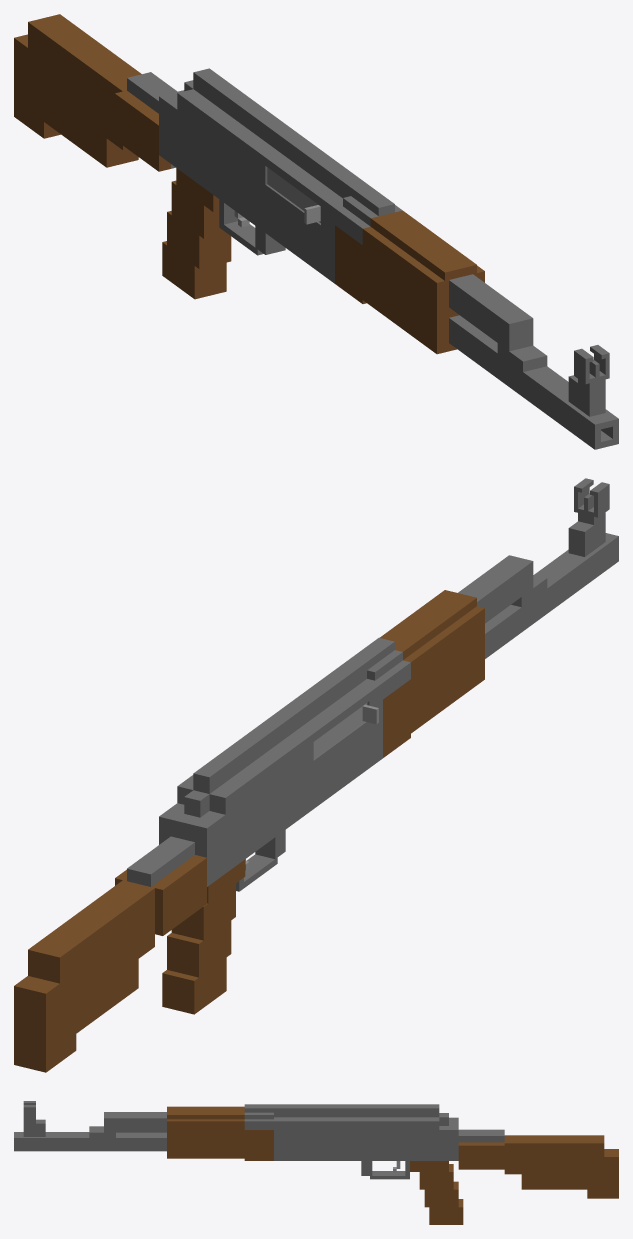
File: russian_assault_rifle.fbx
The picture shows the model from 3 angles, top to bottom: view 1: azimuth 30°, elevation 25°; view 2: azimuth 150°, elevation 25°; view 3: azimuth 270°, elevation 25°; orthographic projection. The views are drawn at different scales.
Visible parts, largest first — view 1: russian_assault_rifle_base, russian_assault_rifle_ejection; view 2: russian_assault_rifle_base, russian_assault_rifle_ejection; view 3: russian_assault_rifle_base.
Boxes of the visible parts, x1,y1,x2,y2 form: russian_assault_rifle_base: (14,14,618,449); russian_assault_rifle_ejection: (267,167,320,224); russian_assault_rifle_base: (14,478,618,1072); russian_assault_rifle_ejection: (313,703,378,758); russian_assault_rifle_base: (14,1101,618,1224).
Size of the model in its own units: 9 by 31.8 by 149.
